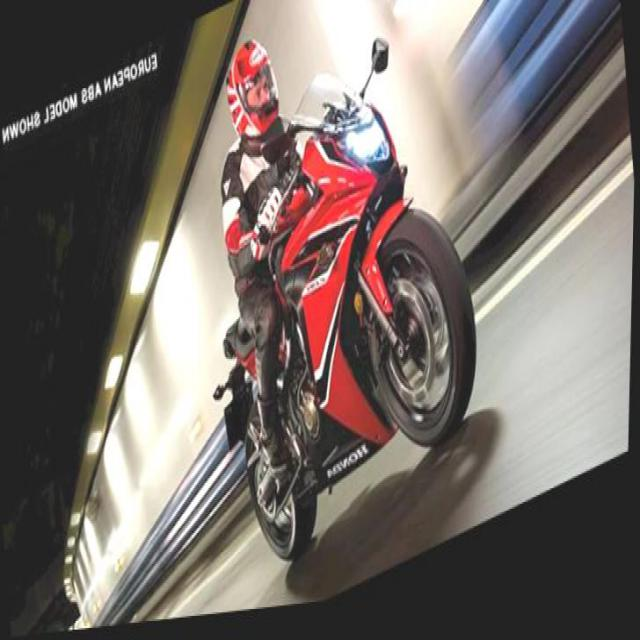CBR650R: (209, 12, 497, 593)
